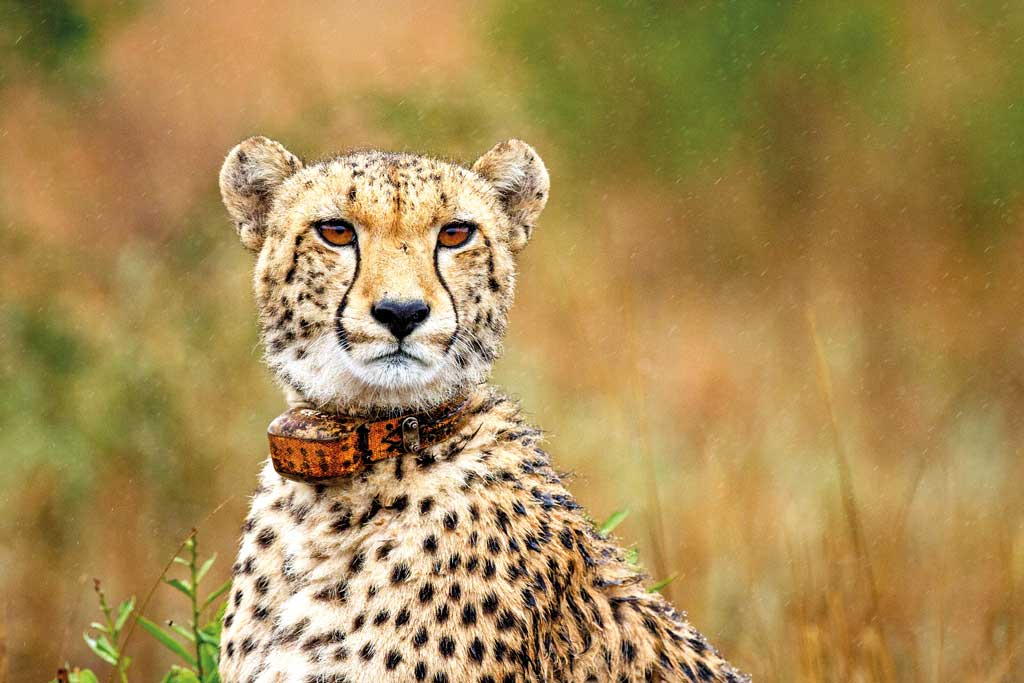cheetah: (203, 116, 564, 425)
